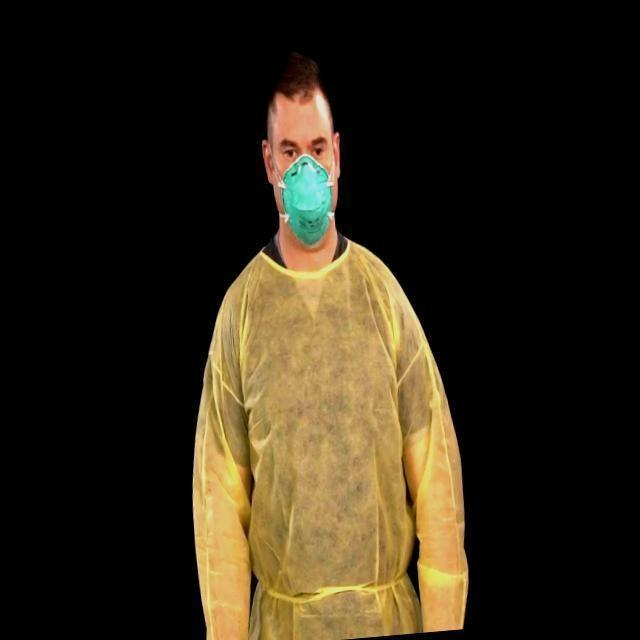mask: (280, 162, 334, 242)
no_gloves: (264, 62, 342, 108)
